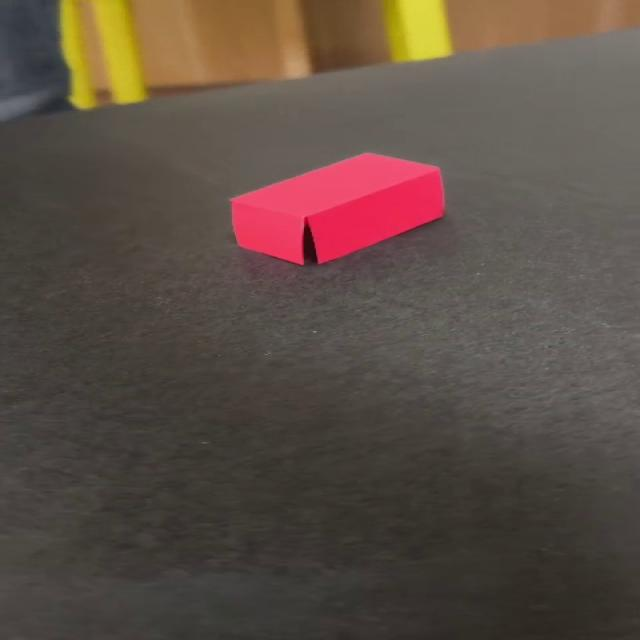red block: (227, 151, 445, 265)
